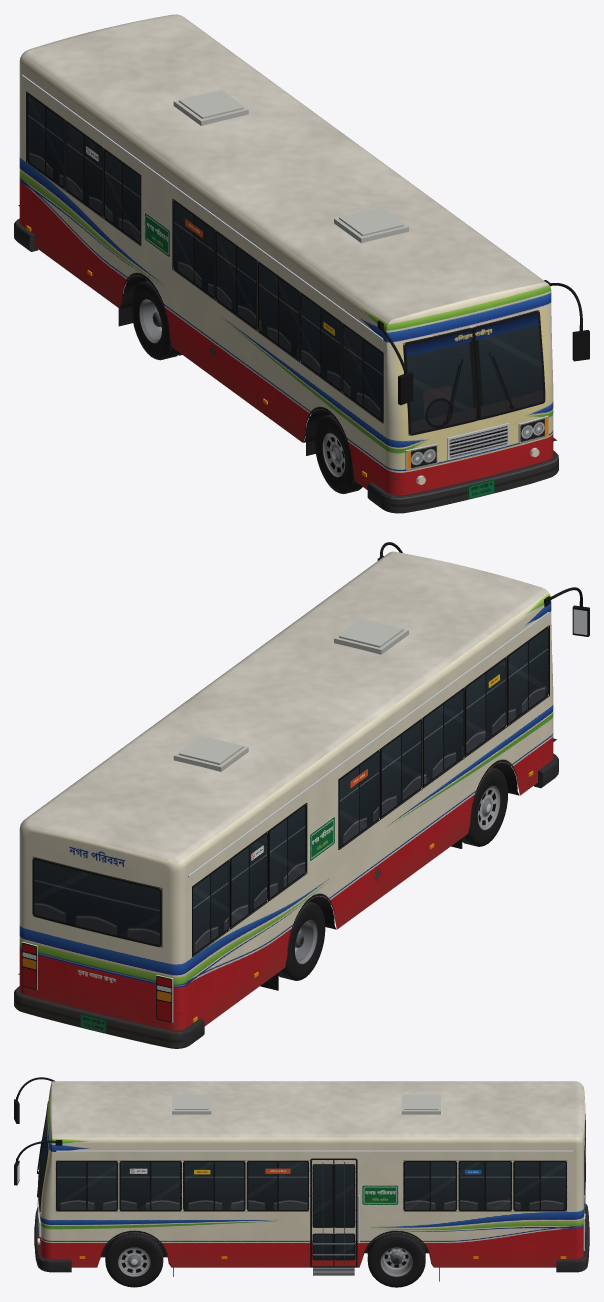
The model's file is bangladeshi_bus.glb.
3 views of the same model, one above another, from view 1: azimuth 30°, elevation 25°; view 2: azimuth 150°, elevation 25°; view 3: azimuth 270°, elevation 25° (orthographic). The views are drawn at different scales.
Parts seen in each view (by area): view 1: Body, Wheel_RR, Wheel_FR; view 2: Body, Wheel_RR, Wheel_FR; view 3: Body, Wheel_RL, Wheel_FL.
Boxes of the visible parts, x1,y1,x2,y2 form: Body: [14, 14, 589, 513]; Wheel_RR: [131, 280, 181, 360]; Wheel_FR: [314, 414, 362, 493]; Body: [14, 542, 589, 1048]; Wheel_RR: [278, 901, 325, 980]; Wheel_FR: [462, 767, 508, 846]; Body: [14, 1077, 589, 1281]; Wheel_RL: [367, 1232, 425, 1287]; Wheel_FL: [105, 1232, 163, 1287].
Bounding box in the file's own units: 2.89 × 3.22 × 10.54.
Materials: 2 (2 with a texture image).
